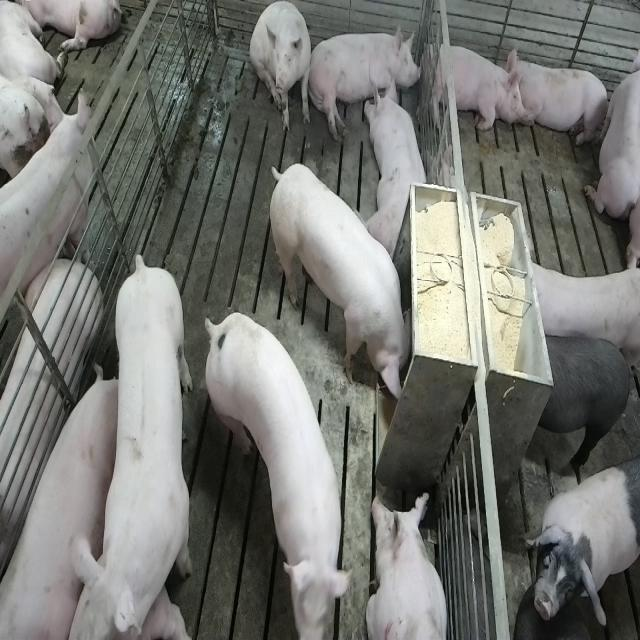Feeding: (264, 162, 411, 404)
Lateral_lying: (0, 368, 117, 640), (308, 20, 422, 142)
Sitting: (250, 1, 314, 135)
Standing: (204, 310, 355, 640), (71, 252, 197, 639), (0, 93, 92, 336), (522, 454, 638, 632), (528, 334, 636, 479), (522, 257, 637, 372)
Sternal_lying: (366, 491, 449, 640), (367, 75, 431, 258), (509, 50, 611, 150), (584, 36, 637, 223), (425, 37, 522, 134)
